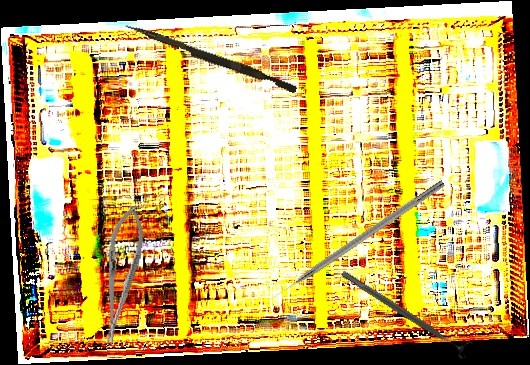Fixation Ring: (336, 263, 475, 362)
Hook Surgical: (267, 178, 446, 304)
Needle Holder: (92, 202, 150, 347)
Pusher: (122, 22, 299, 94)
